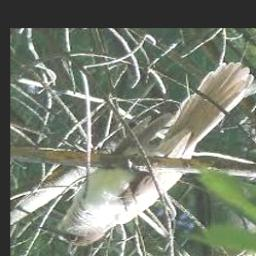Cuckoo: (37, 63, 254, 246)
